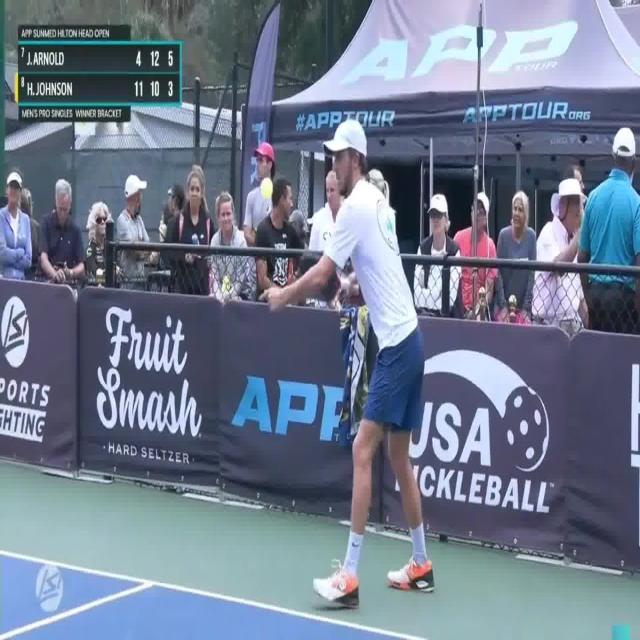ball: (254, 173, 277, 207)
